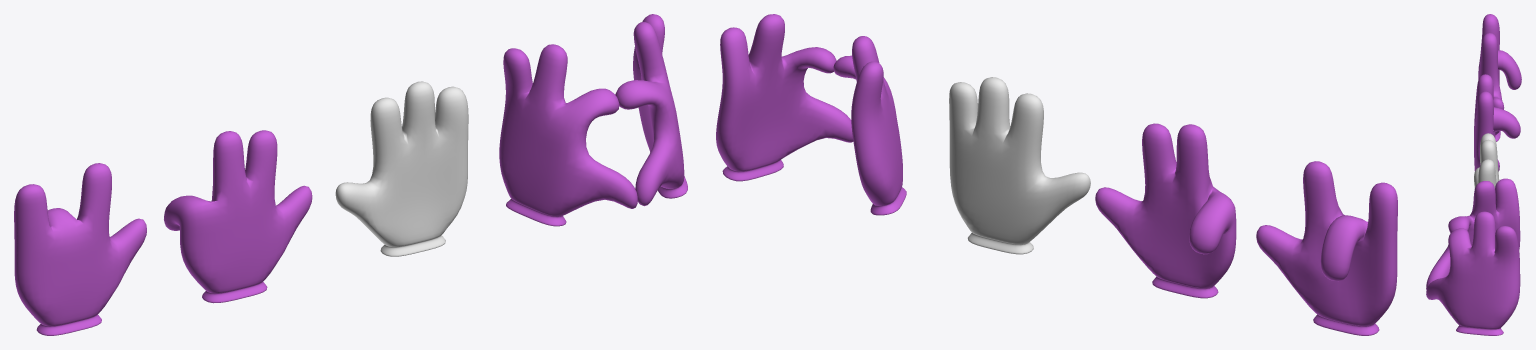
Rendered from MirroredGloves.fbx.
3 renders of one model, left to right at view 1: azimuth 30°, elevation 25°; view 2: azimuth 150°, elevation 25°; view 3: azimuth 270°, elevation 25°, orthographic. The views are drawn at different scales.
Parts seen in each view (by area): view 1: Plane001, Plane3, Plane003, Plane004, Plane002; view 2: Plane001, Plane003, Plane004, Plane002, Plane3; view 3: Plane002, Plane3, Plane004, Plane003, Plane001.
Boxes of the visible parts, left/top/right/bottom form: Plane001: left=335, top=81, right=468, bottom=256; Plane3: left=499, top=44, right=637, bottom=226; Plane003: left=164, top=130, right=312, bottom=303; Plane004: left=14, top=163, right=146, bottom=335; Plane002: left=615, top=14, right=687, bottom=206; Plane001: left=949, top=77, right=1090, bottom=254; Plane003: left=1095, top=123, right=1236, bottom=298; Plane004: left=1256, top=161, right=1397, bottom=335; Plane002: left=716, top=14, right=853, bottom=181; Plane3: left=833, top=36, right=906, bottom=215; Plane002: left=1426, top=211, right=1520, bottom=335; Plane3: left=1426, top=178, right=1520, bottom=289; Plane004: left=1478, top=14, right=1521, bottom=141; Plane003: left=1474, top=74, right=1520, bottom=171; Plane001: left=1474, top=133, right=1499, bottom=188.
Size of the model in its own units: 70.8 by 17.41 by 12.66.
